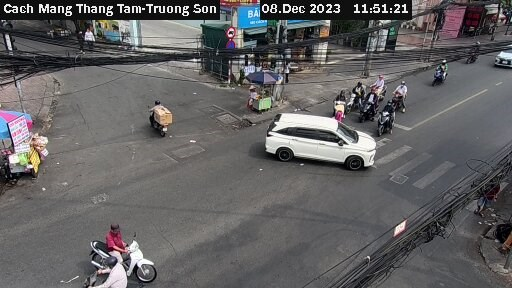car: (269, 103, 381, 186), (493, 41, 512, 68)
motorbike: (82, 224, 171, 279), (138, 98, 186, 152), (373, 100, 408, 137), (388, 80, 423, 113), (429, 58, 464, 88), (328, 88, 352, 118), (342, 76, 367, 103), (367, 73, 394, 97)
